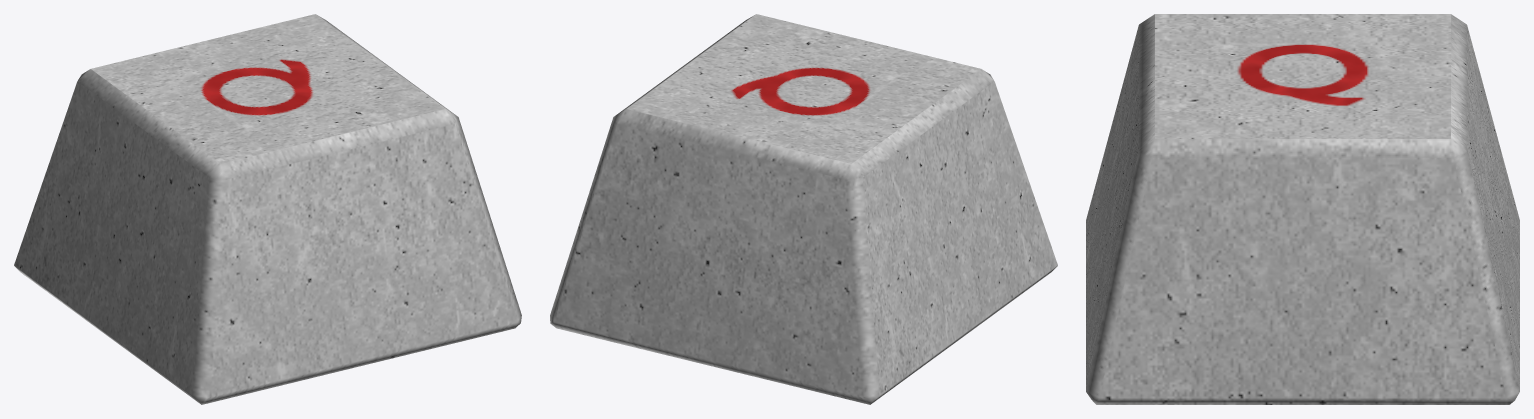
File: Key.fbx
3 views of the same model, side by side, from view 1: azimuth 30°, elevation 25°; view 2: azimuth 150°, elevation 25°; view 3: azimuth 270°, elevation 25° (orthographic). The views are drawn at different scales.
Visible parts, largest first — view 1: qbut_low; view 2: qbut_low; view 3: qbut_low.
Part boxes in pixels (x1=…): qbut_low: x1=14, y1=14, x2=521, y2=404; qbut_low: x1=550, y1=14, x2=1057, y2=404; qbut_low: x1=1086, y1=14, x2=1519, y2=404.
Size of the model in its own units: 98.71 by 60.54 by 98.71.
1 material, 1 textured.
